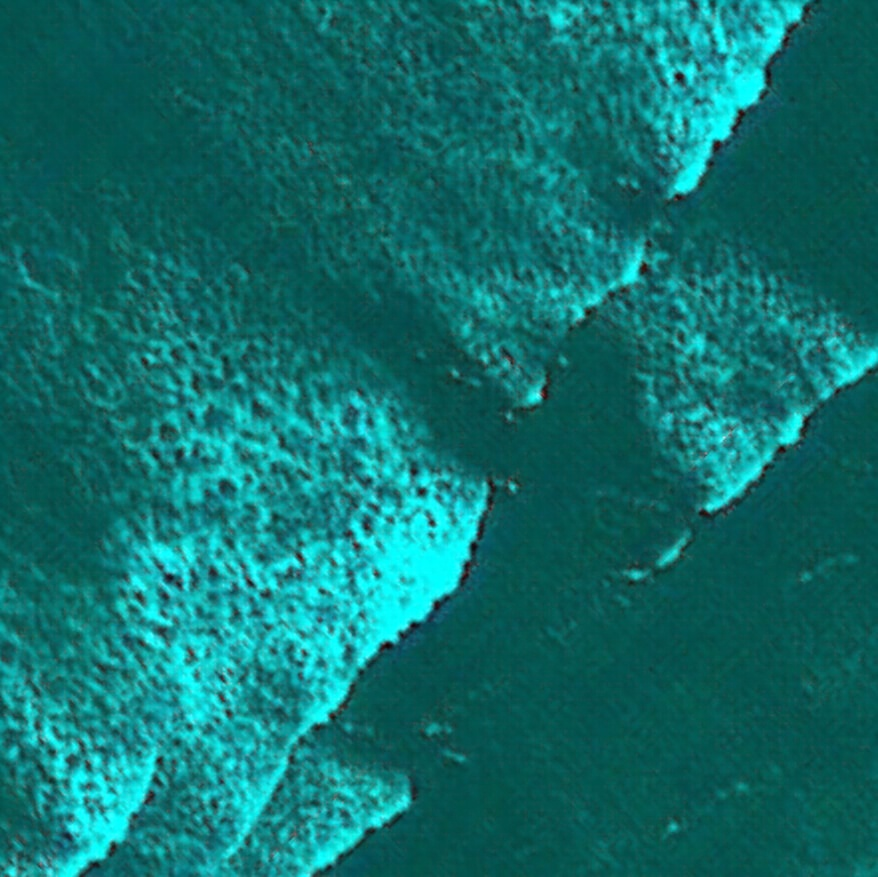rip_current: (191, 159, 611, 520)
